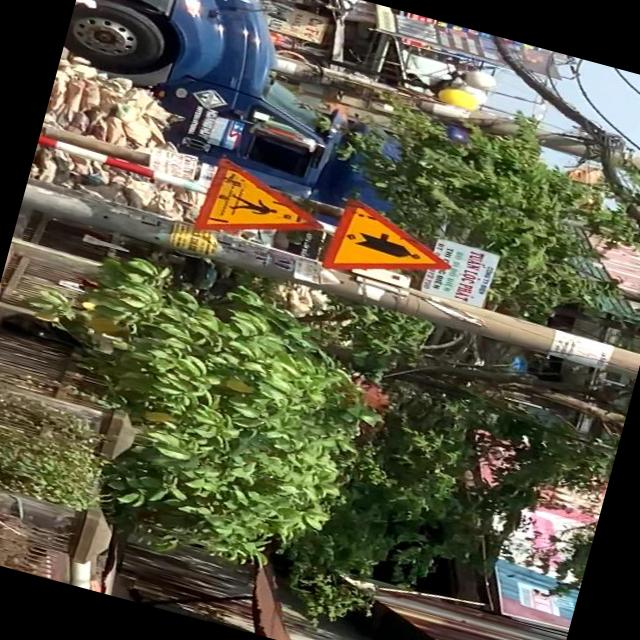W-207c: (320, 192, 462, 299)
W-224: (192, 155, 331, 259)
